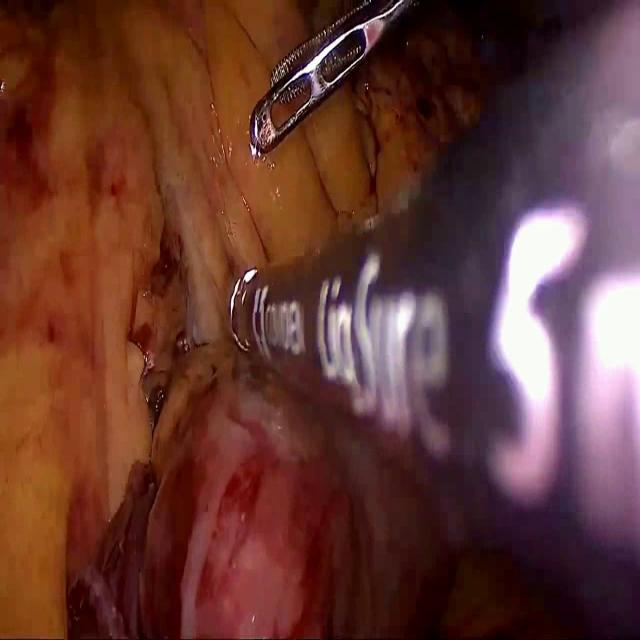surgical-tool: (226, 1, 640, 639), (250, 0, 422, 155)
